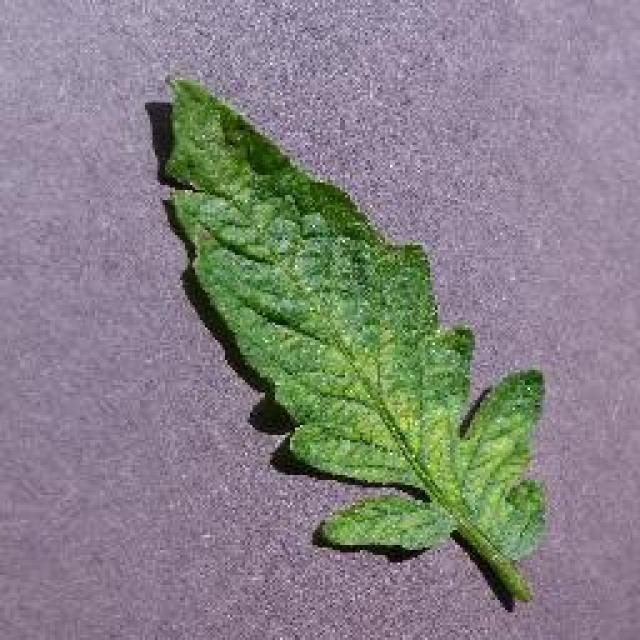Tomato spider mites leaf: (161, 72, 551, 568)
